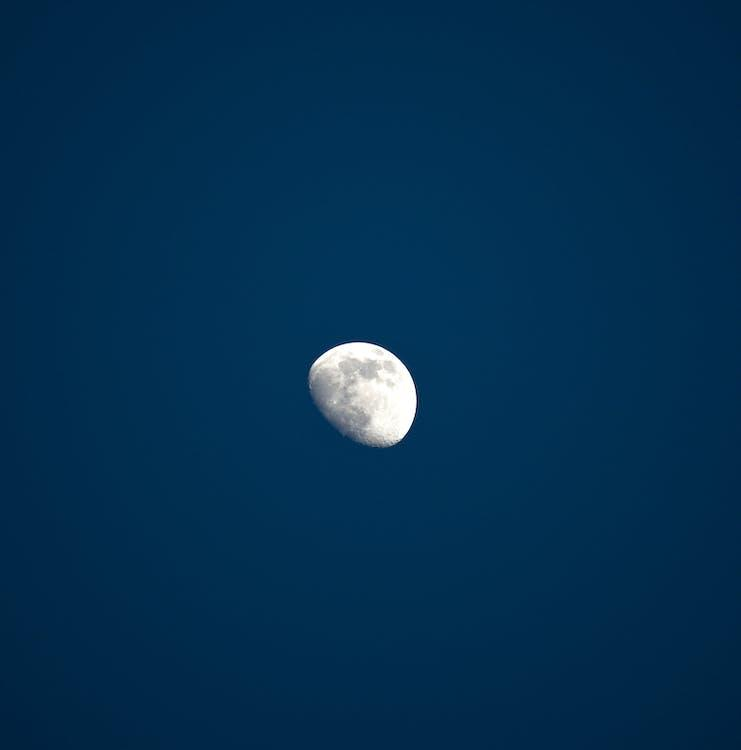moon: (300, 329, 430, 468)
